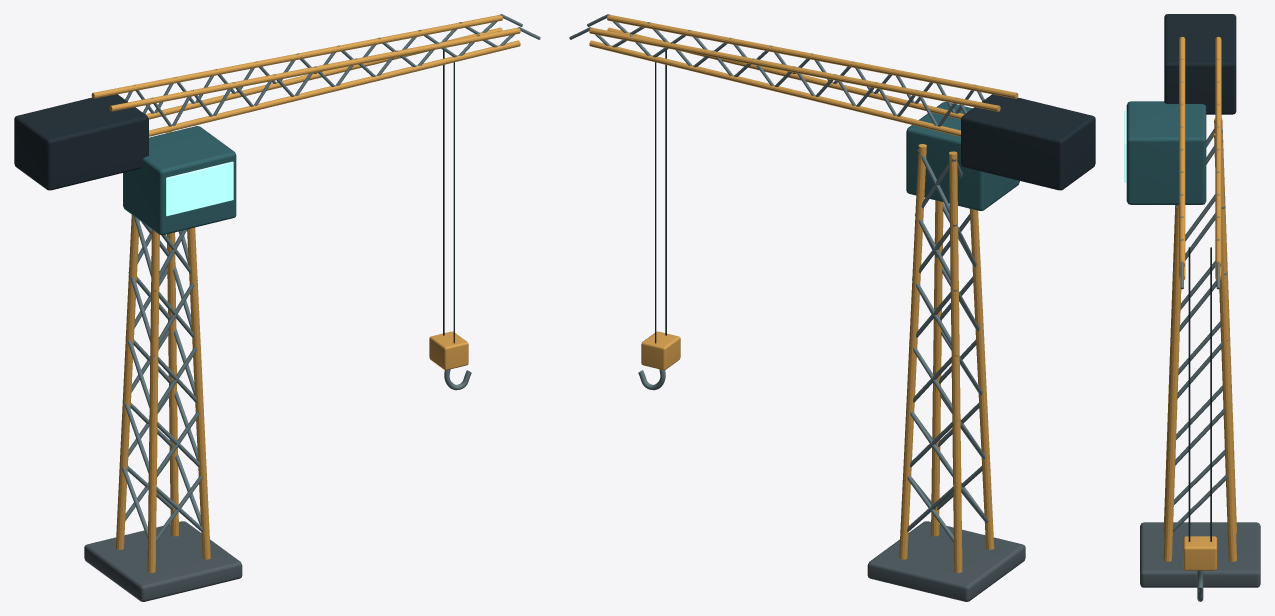
Rendered from SM_RainDockCrane.glb.
3 views of the same model, side by side, from view 1: azimuth 30°, elevation 25°; view 2: azimuth 150°, elevation 25°; view 3: azimuth 270°, elevation 25° (orthographic). The views are drawn at different scales.
Parts seen in each view (by area): view 1: SM_RainDockCrane; view 2: SM_RainDockCrane; view 3: SM_RainDockCrane.
Part boxes in pixels (bbox=[...]): SM_RainDockCrane: bbox=[14, 14, 540, 601]; SM_RainDockCrane: bbox=[569, 14, 1095, 601]; SM_RainDockCrane: bbox=[1124, 14, 1260, 601].
Bounding box in the file's own units: 24.54 × 22.73 × 5.65.
